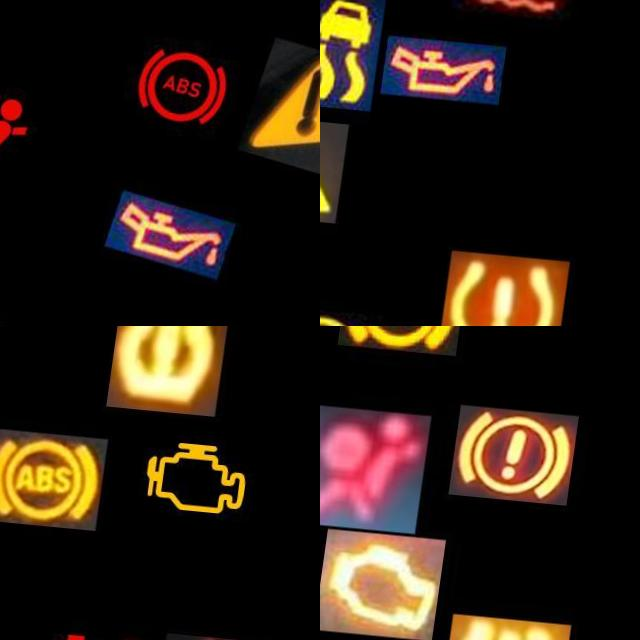Central Warning lamp: (239, 27, 320, 174), (320, 107, 359, 215)
Engine cooling system: (171, 622, 297, 640)
